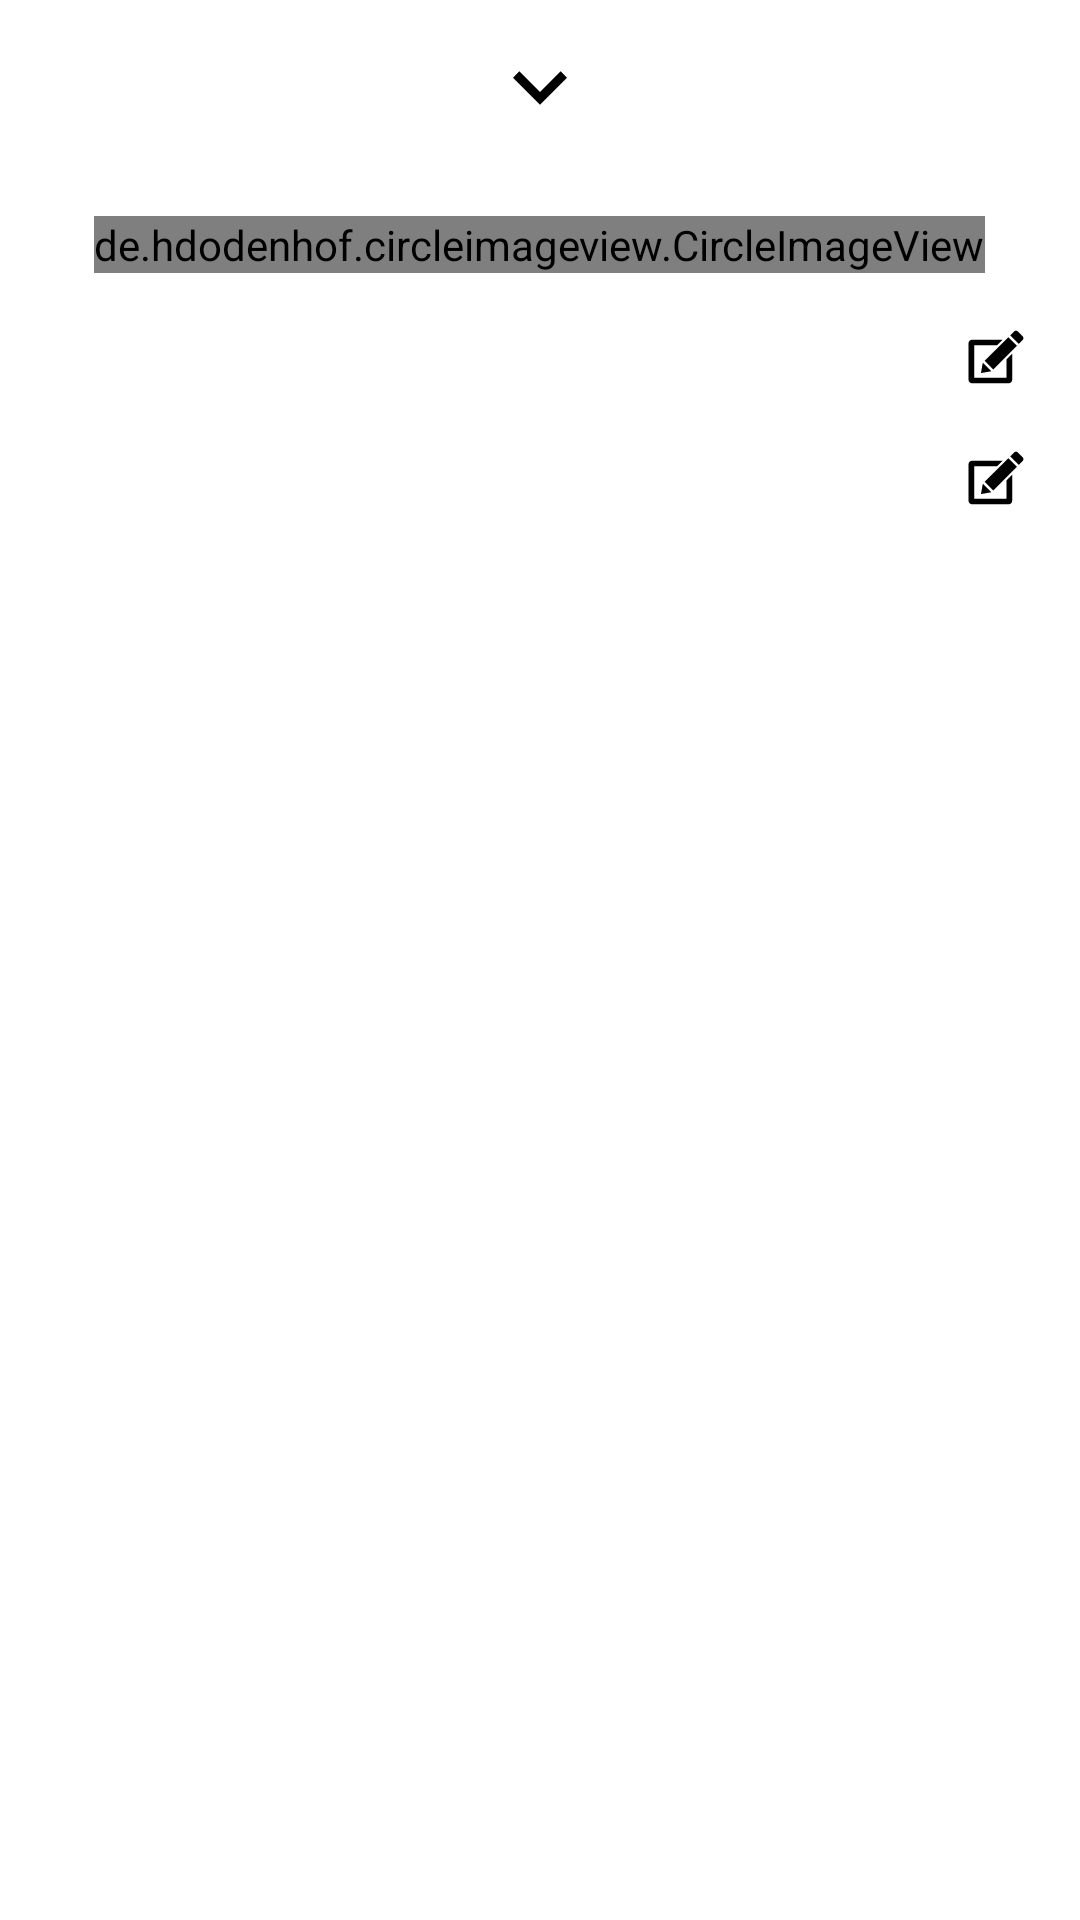

Point at icon controls on the screen. Image size 1080 × 1920, points as (x,y).
arrow down: (540,88)
edit: (996,357), (996,478)
